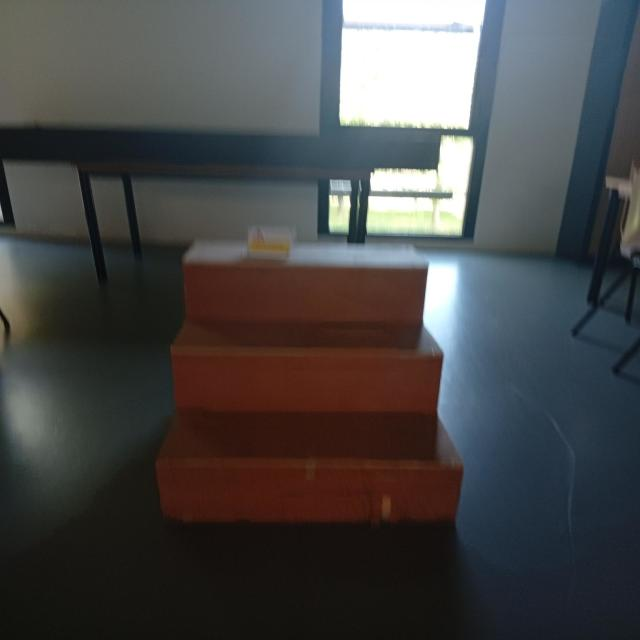Stairs: (132, 255, 473, 556)
